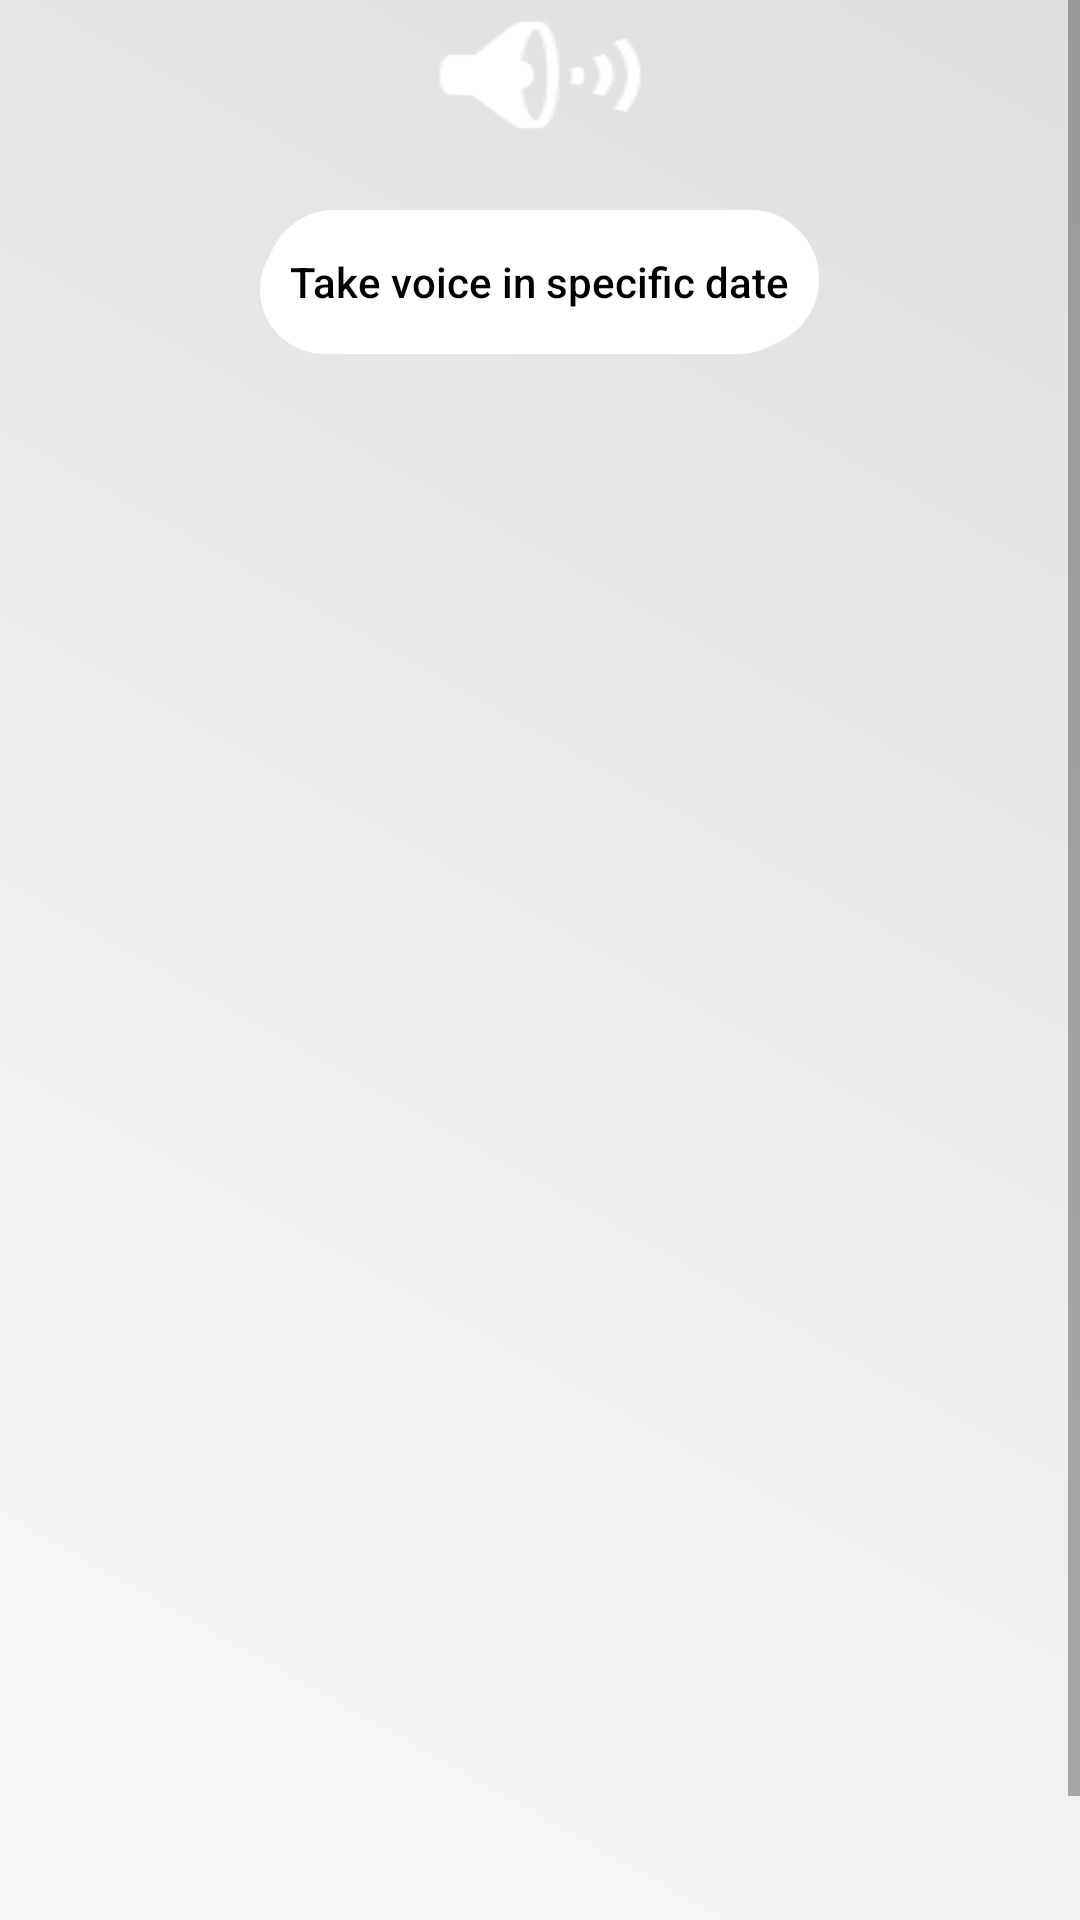

Icons on this 1080w x 1920h Android screen, each with its box as (x1, y1, x2, y2):
lock silent mode off: (441, 22, 639, 128)
